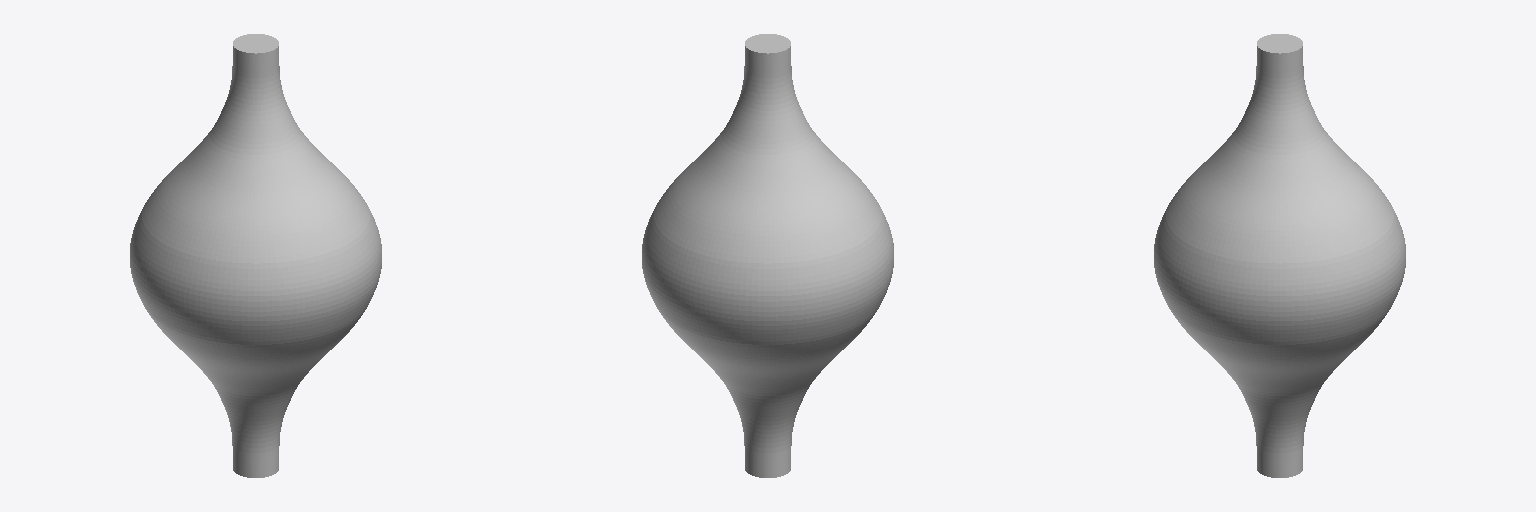
The model's file is 190708_Ether_100type_drop3.obj.
The picture shows the model from 3 angles: view 1: azimuth 30°, elevation 25°; view 2: azimuth 150°, elevation 25°; view 3: azimuth 270°, elevation 25°; orthographic projection.
Parts seen in each view (by area): view 1: object_1; view 2: object_1; view 3: object_1.
Part boxes in pixels (x1,y1,x2,y2): object_1: (130, 34, 381, 477); object_1: (642, 34, 893, 477); object_1: (1154, 34, 1405, 477).
Bounding box in the file's own units: 53.92 × 100 × 53.92.